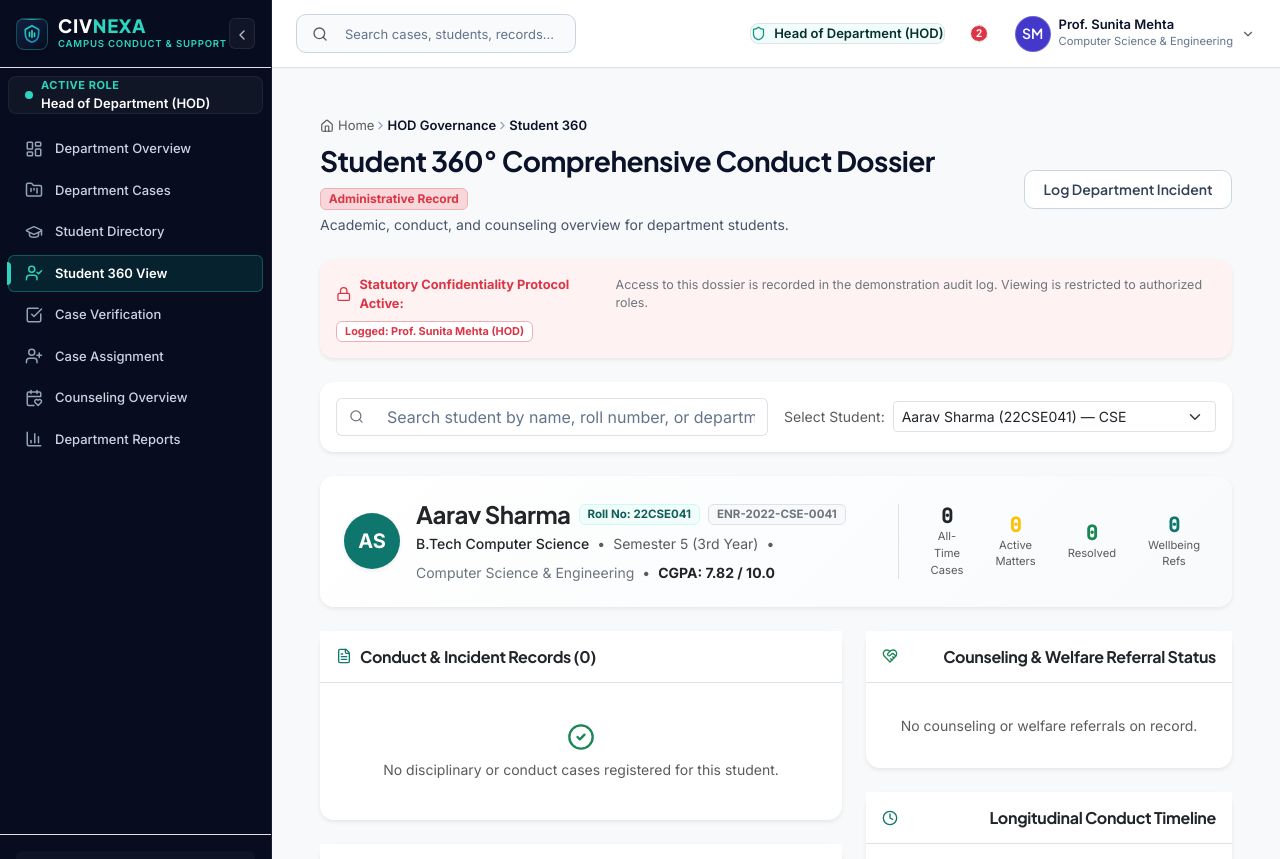
Test case: CIVNEXA FE-5: Role-Specific Dashboards & Student Experience › 3. Student 360 View (/hod/student-360) › allows switching selected student via student dropdown
This screenshot has width=1280, height=859.
Check: the heading "Student 360° Comprehensive Conduct Dossier" is shown, box [320,144,935,177]
// Select another student from select dropdown
Select "Rohan Varma (23ME112) — ME" in the dropdown named "Select student profile" at (1054, 417), box [893,401,1216,432]
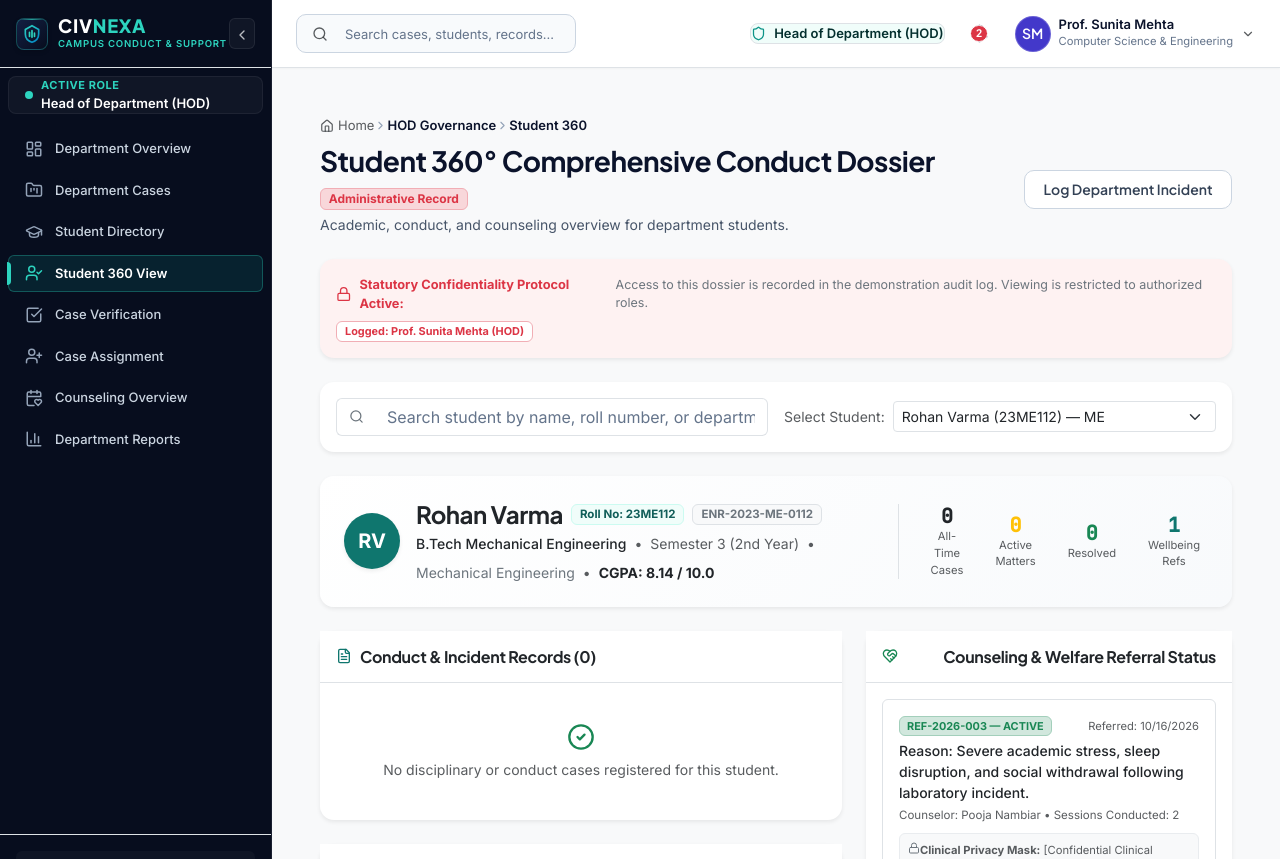
Check: the heading "Rohan Varma" is shown, box [416,500,563,529]
